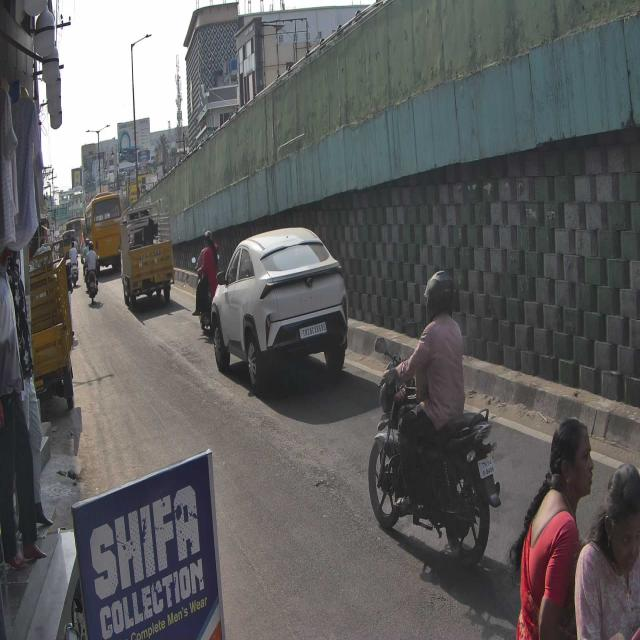single_rider: (368, 268, 501, 568)
